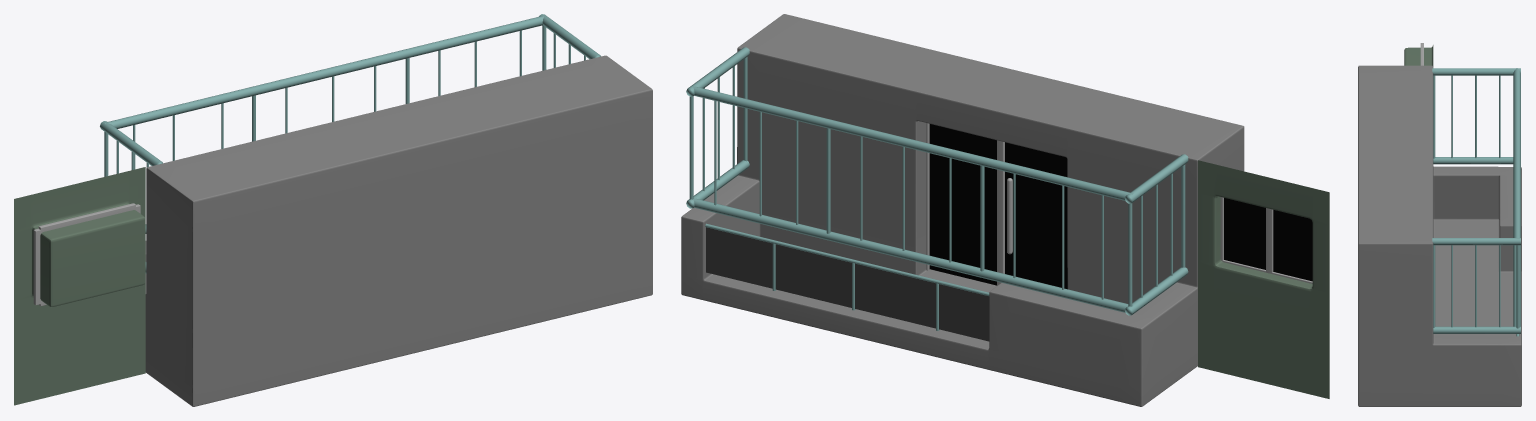
File: EdenTerrace2_9m.fbx
The picture shows the model from 3 angles, left to right: view 1: azimuth 30°, elevation 25°; view 2: azimuth 150°, elevation 25°; view 3: azimuth 270°, elevation 25°; orthographic projection. The views are drawn at different scales.
Parts seen in each view (by area): view 1: polySurface300; view 2: polySurface300; view 3: polySurface300.
Boxes of the visible parts, x1,y1,x2,y2 form: polySurface300: [14, 14, 652, 406]; polySurface300: [681, 14, 1329, 406]; polySurface300: [1358, 43, 1521, 406].
Bounding box in the file's own units: 9 × 3.03 × 2.71.
